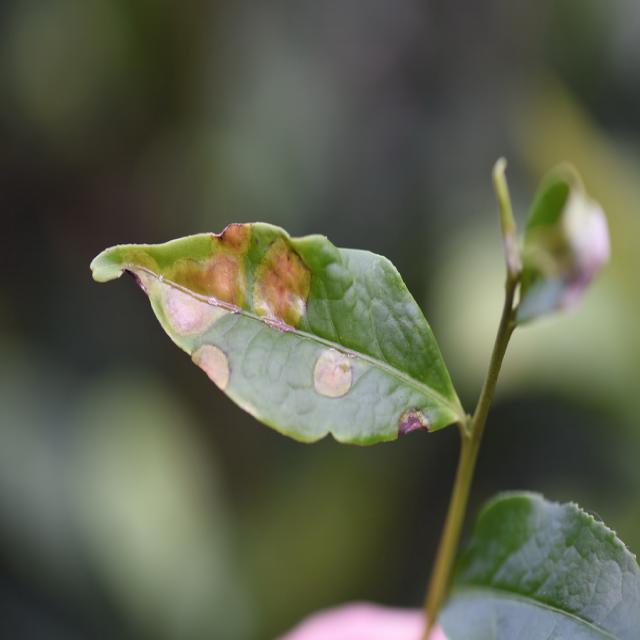Tea cake: (243, 224, 331, 327), (164, 255, 242, 332), (310, 341, 362, 405), (188, 336, 240, 391), (210, 204, 258, 259), (402, 396, 439, 434)
